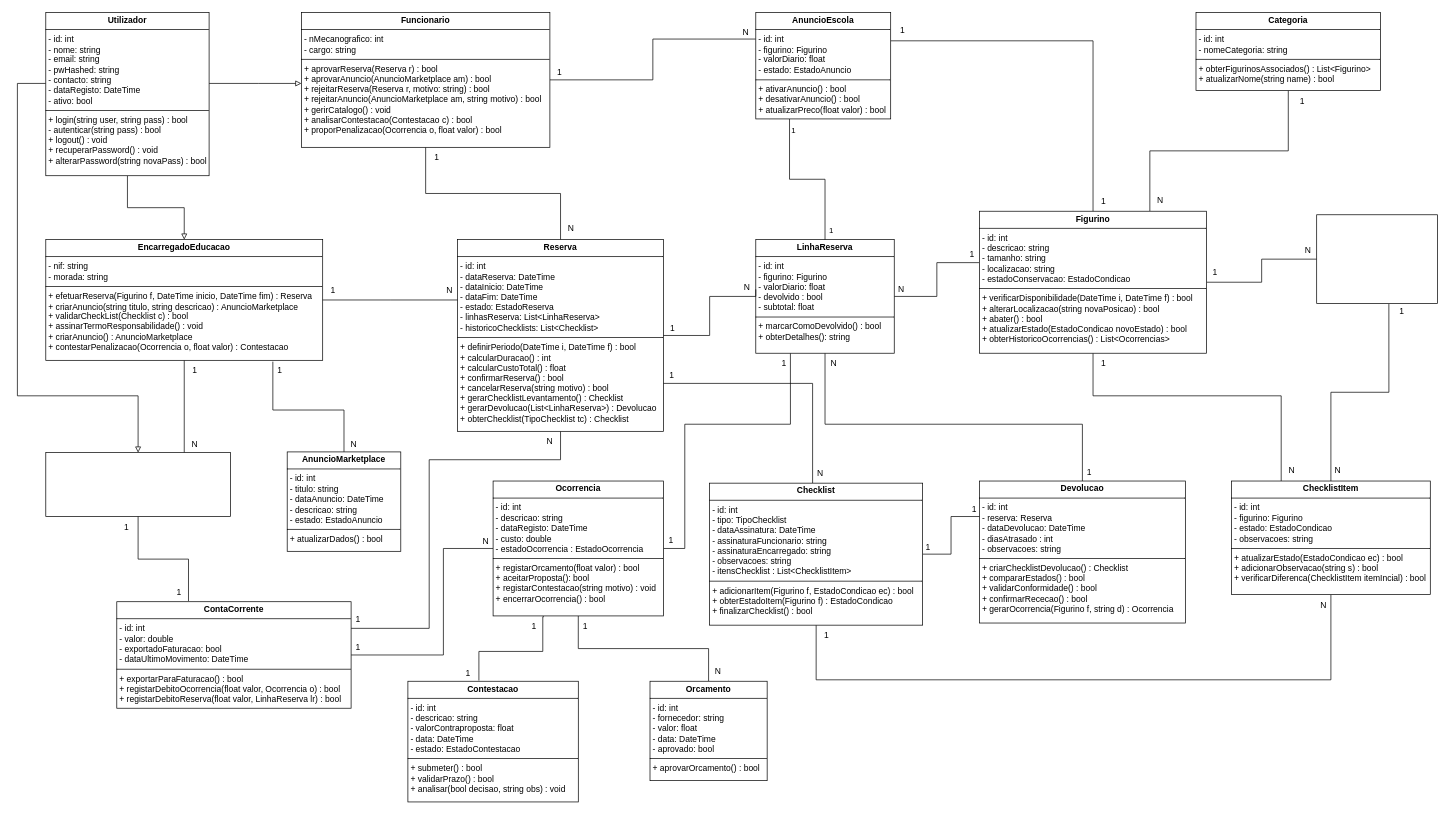
Image size: 1450x814. Some labels were removed from this diagram. Each missing label, with the centre of its shape:
"Acessorio - id: int - nome: string - quantidade: int - valorPenalizacao: float" belongs at point (1376, 259).
"Aluno - nAluno: int + obterResponsavel() : EncarregadoEducacao" belongs at point (137, 484).
